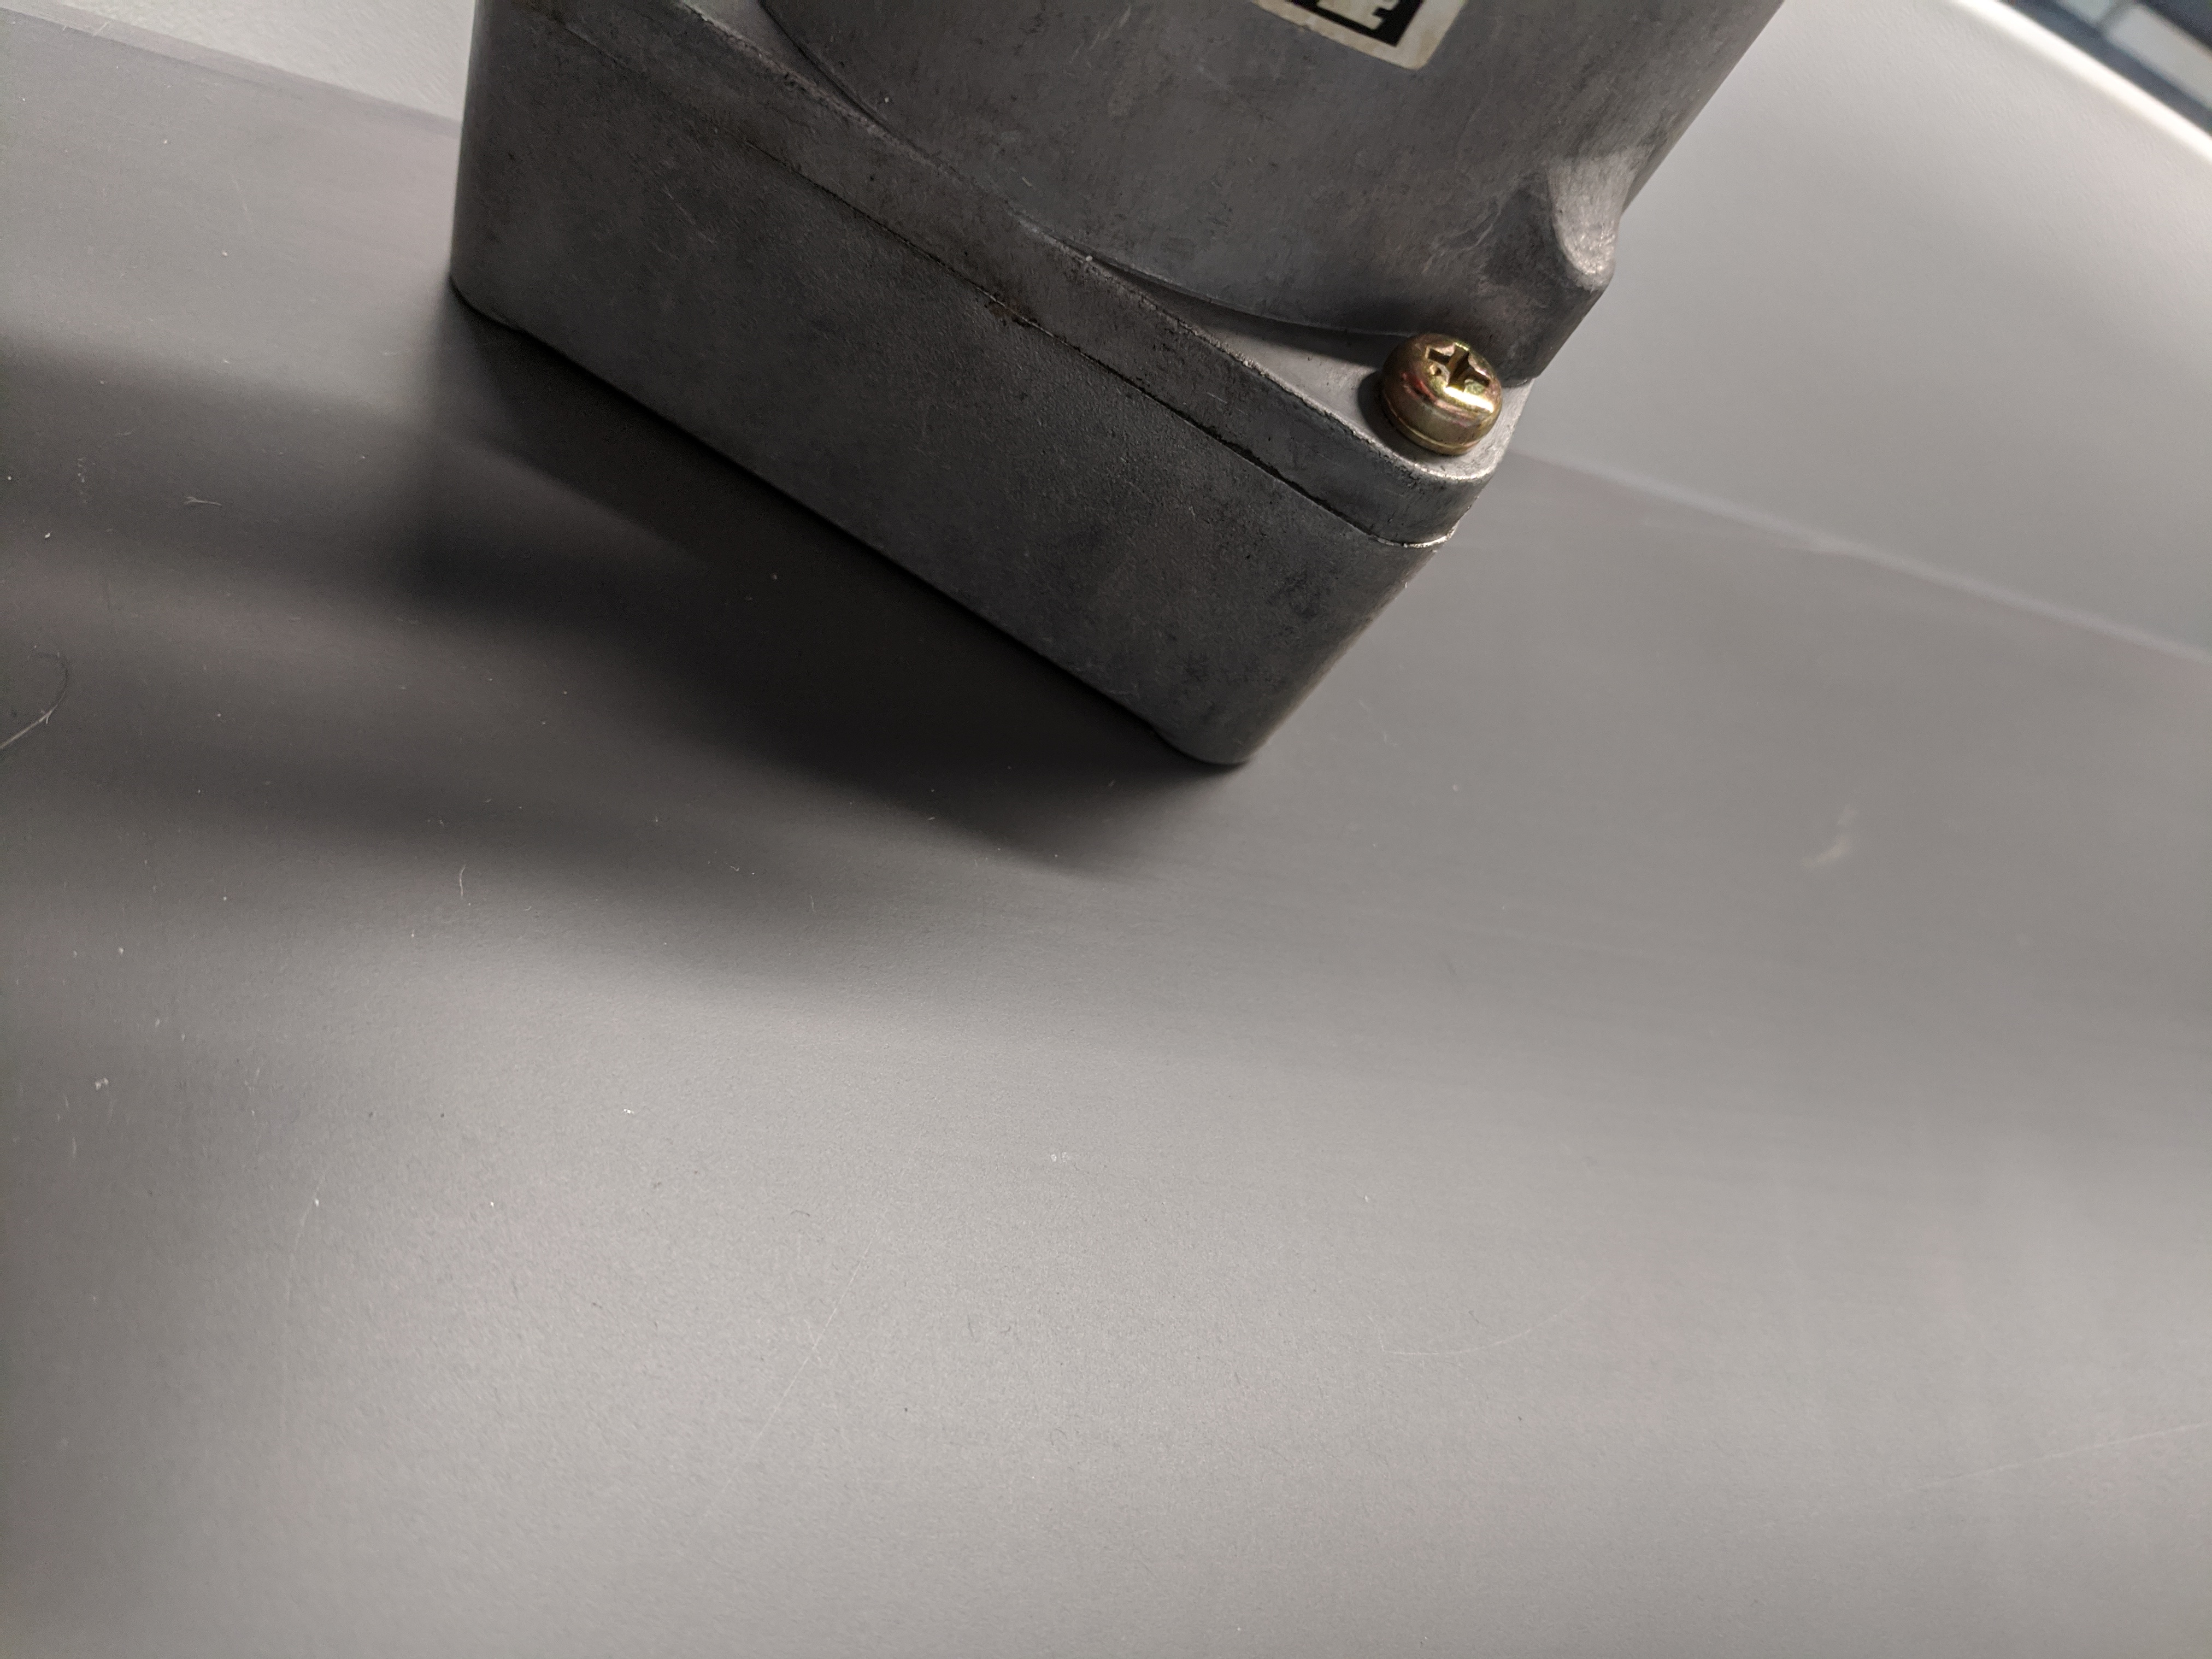cross_recessed_screw: (1390, 317, 1514, 429)
